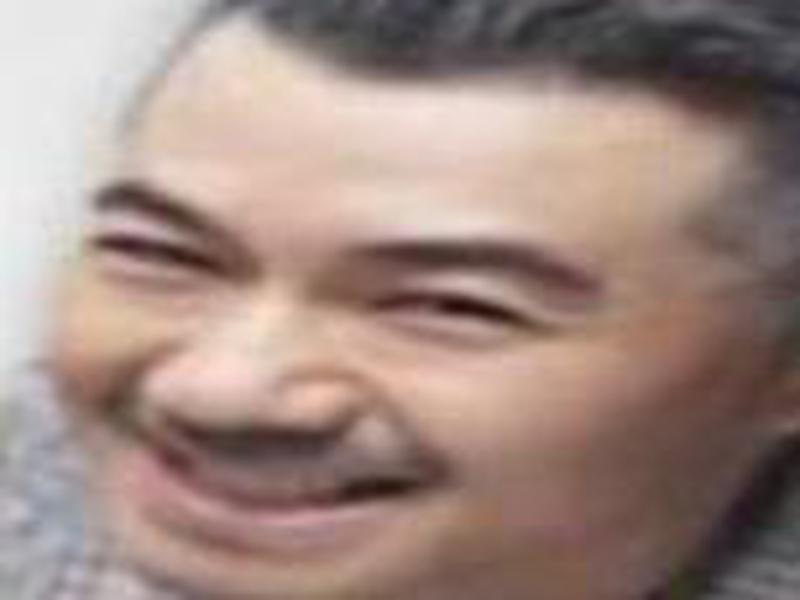without_mask: (34, 31, 774, 600)
